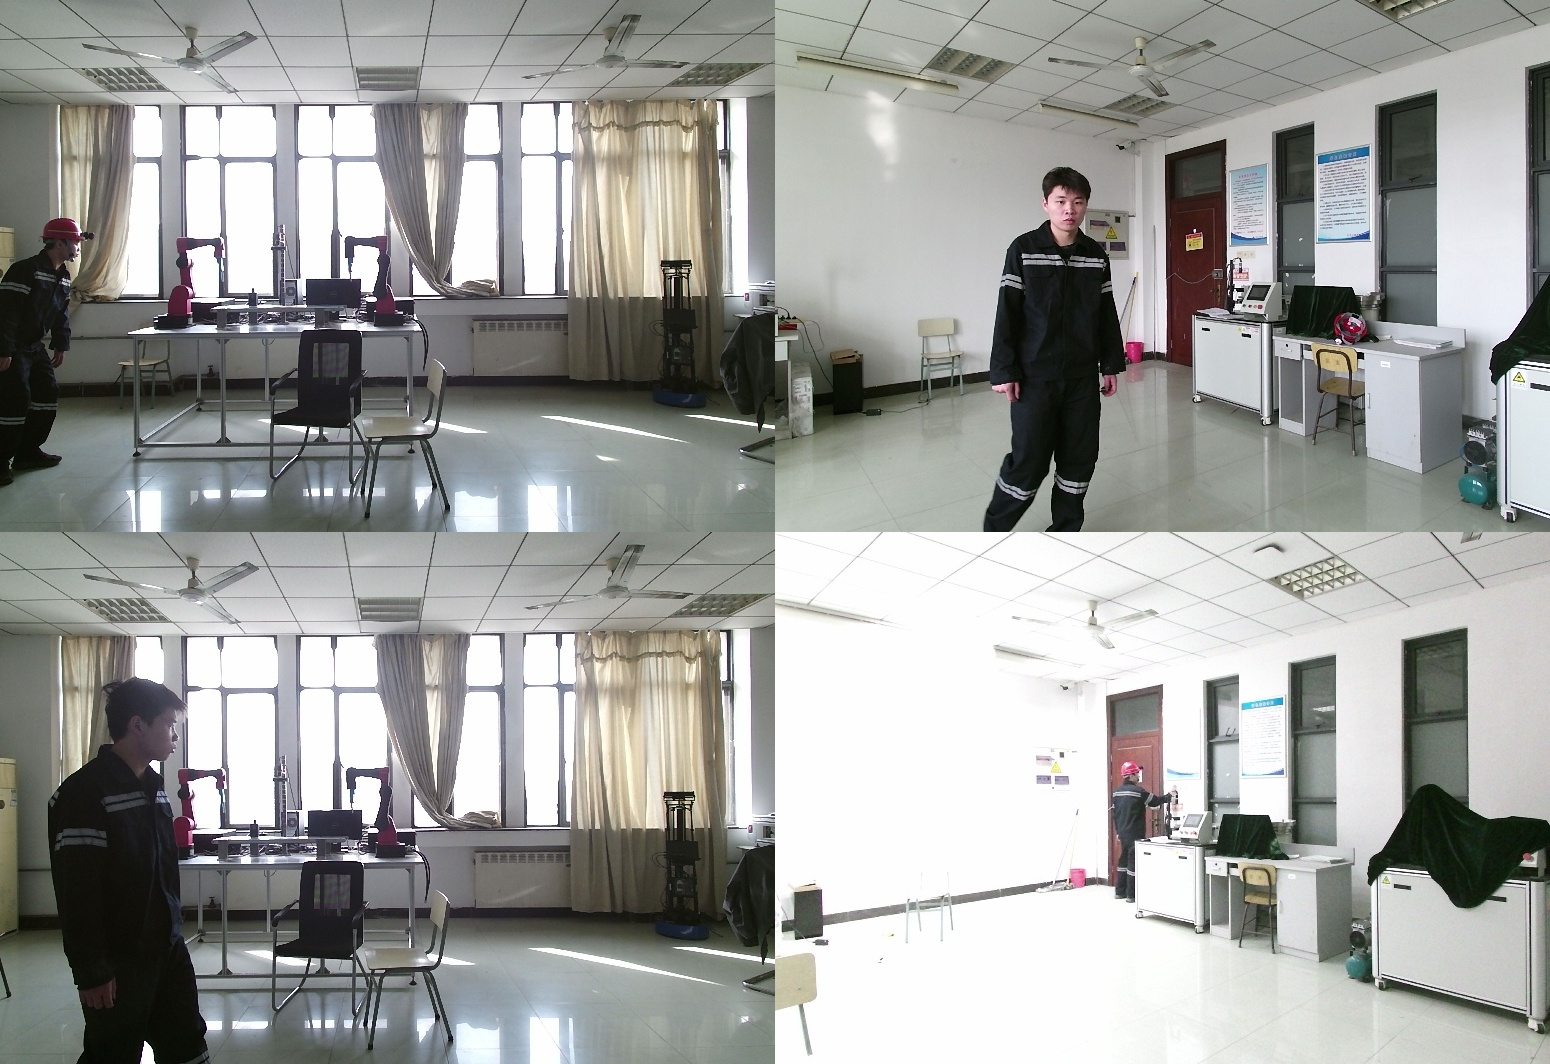person: (51, 679, 218, 1064), (972, 167, 1122, 532), (1, 220, 99, 486), (1106, 762, 1168, 907)
